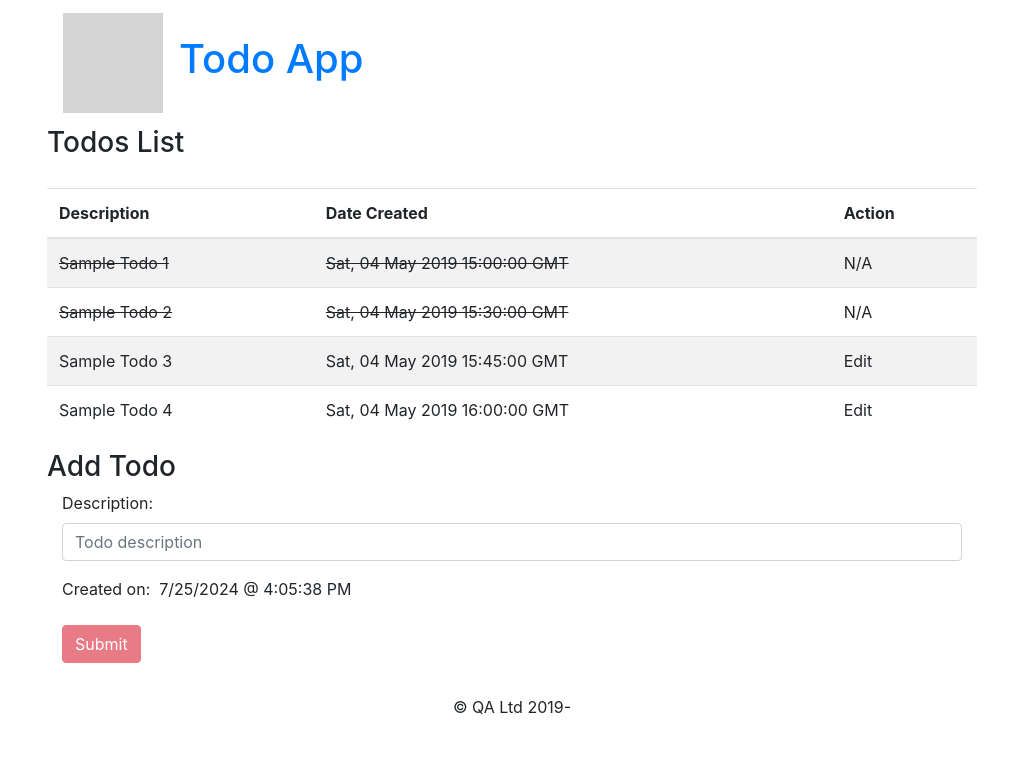
Test: Conditional renders dependent on result of data calls › should display the modal when putError state is true from a put request
Click the text "Edit" in the row of "Sample Todo 3" at x=858, y=361, box [844,351,872,371]
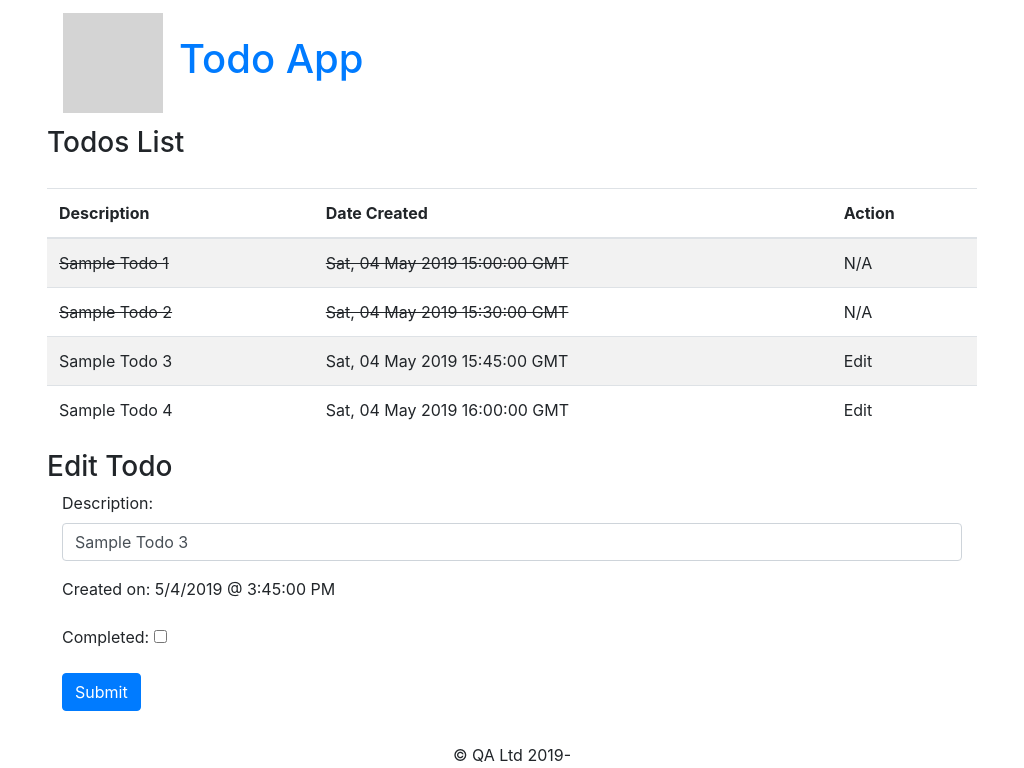
Type "Sample Todo" into the field with placeholder "Todo description" at x=512, y=542, box [62,523,962,561]
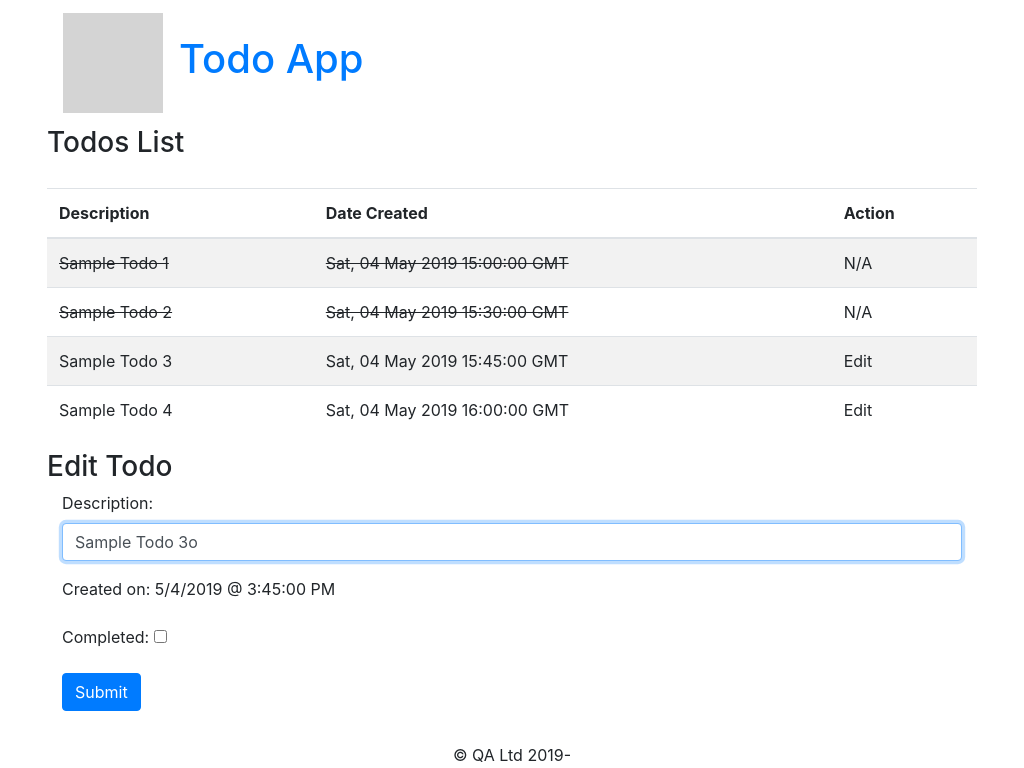
Click the button showing "submit" at x=101, y=692, box [62,673,141,711]
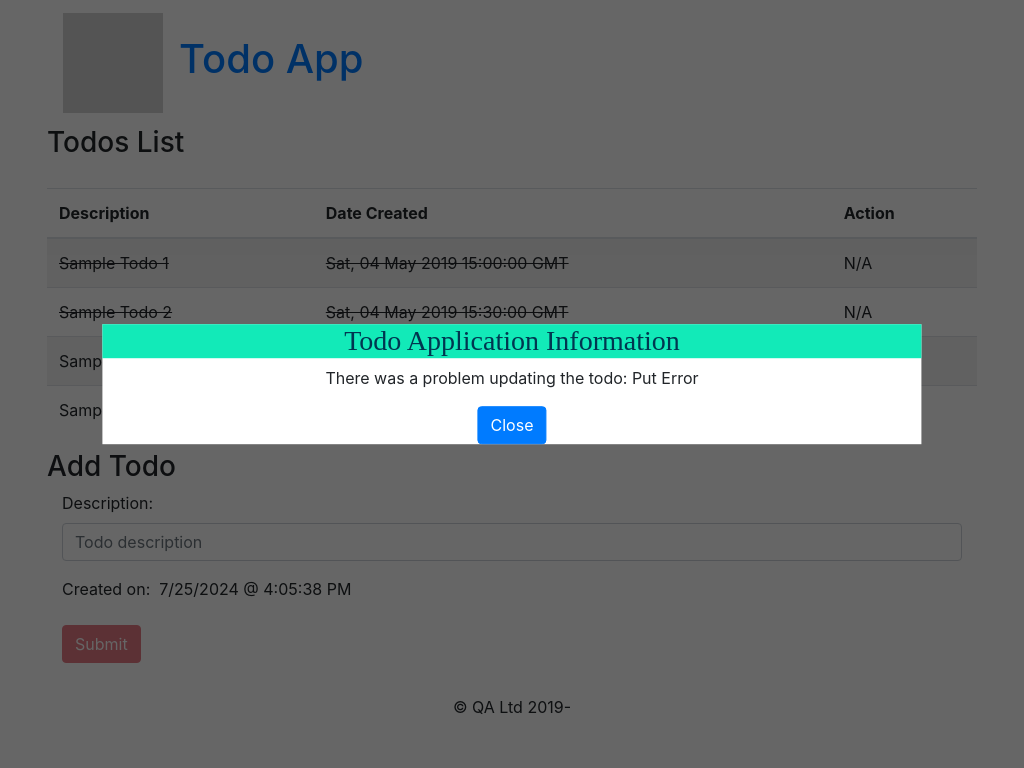
Expected: the text "There was a problem updating the todo: Put Error" is shown, [325,368,699,388]
